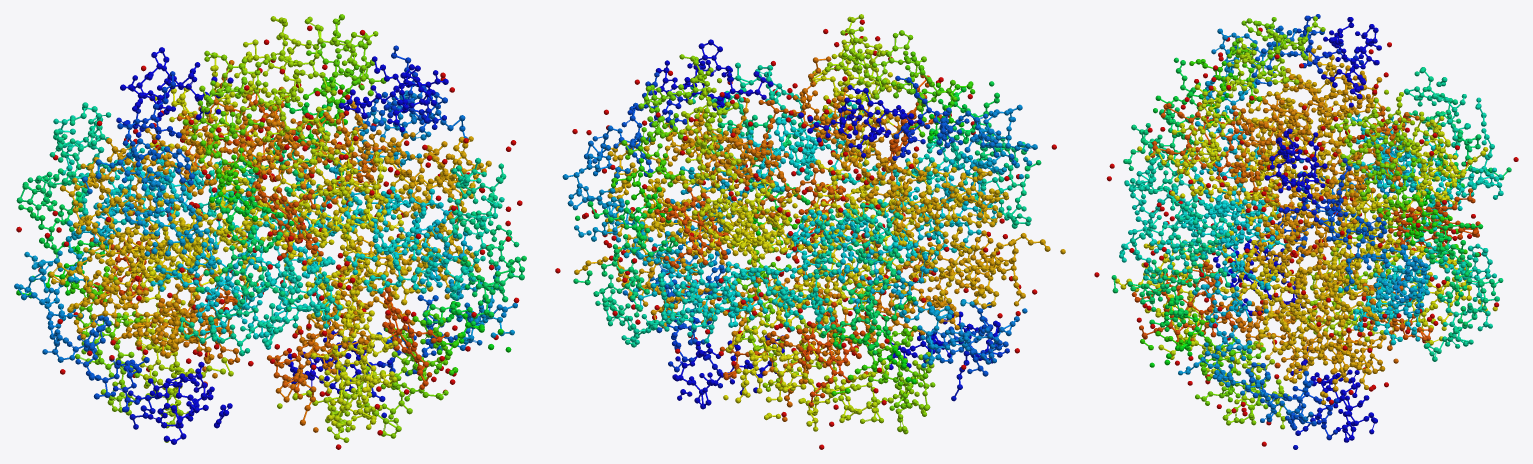
The model's file is 4hhb__ball_and_stick__rainbow.glb.
3 views of the same model, side by side, from view 1: azimuth 30°, elevation 25°; view 2: azimuth 150°, elevation 25°; view 3: azimuth 270°, elevation 25° (orthographic). The views are drawn at different scales.
Visible parts, largest first — view 1: Renderer Node; view 2: Renderer Node; view 3: Renderer Node.
Boxes of the visible parts, x1,y1,x2,y2 form: Renderer Node: (14, 14, 526, 449); Renderer Node: (555, 14, 1065, 449); Renderer Node: (1094, 14, 1518, 449).
Size of the model in its own units: 71.05 by 57.91 by 61.55.
